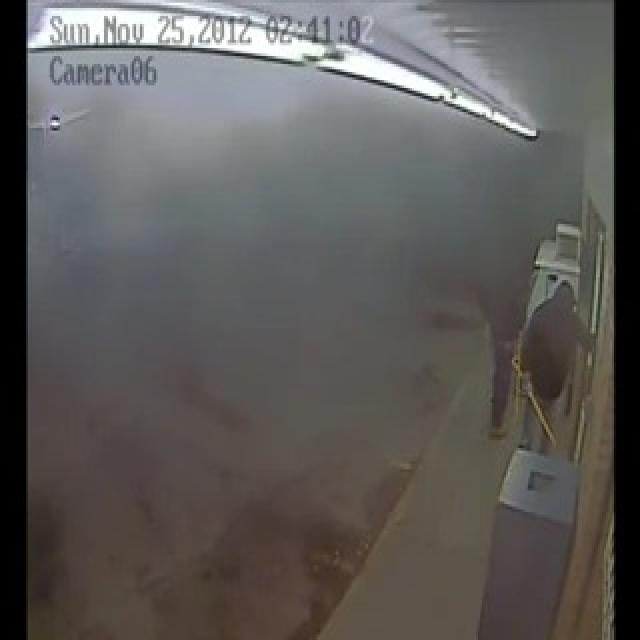thief: (524, 277, 584, 445), (477, 262, 518, 438)
